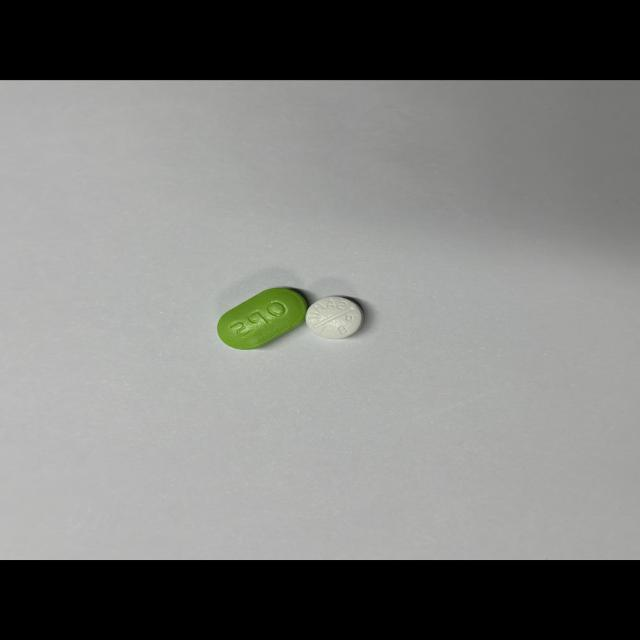Piller: (217, 288, 307, 350), (305, 296, 363, 339)
